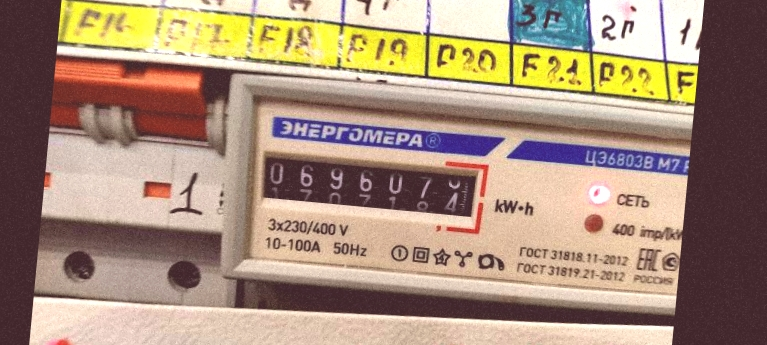0: (267, 159, 286, 185), (386, 168, 404, 195)
4: (442, 189, 460, 214)
6: (356, 167, 376, 192), (297, 162, 316, 188)
7: (416, 173, 433, 201)
9: (326, 165, 345, 190)
screen: (245, 136, 493, 232)
